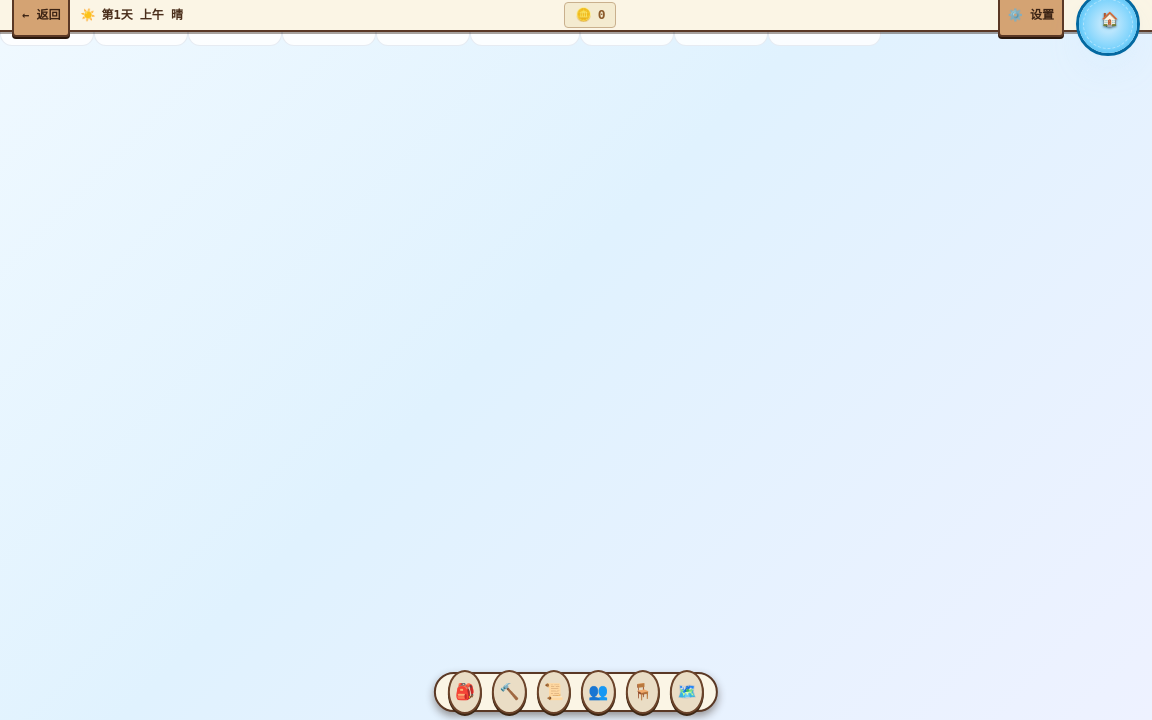
Test case: 2b · CabinHud 真实数据对接与流通测试 (判据 U1, U2, U2b, U3, U4, U6) › U6: 错误态明确展示在弹窗中，不许静默空白冒充正常
Click the button with test id "hud-btn-backpack": (465, 692) [448,670,482,714]
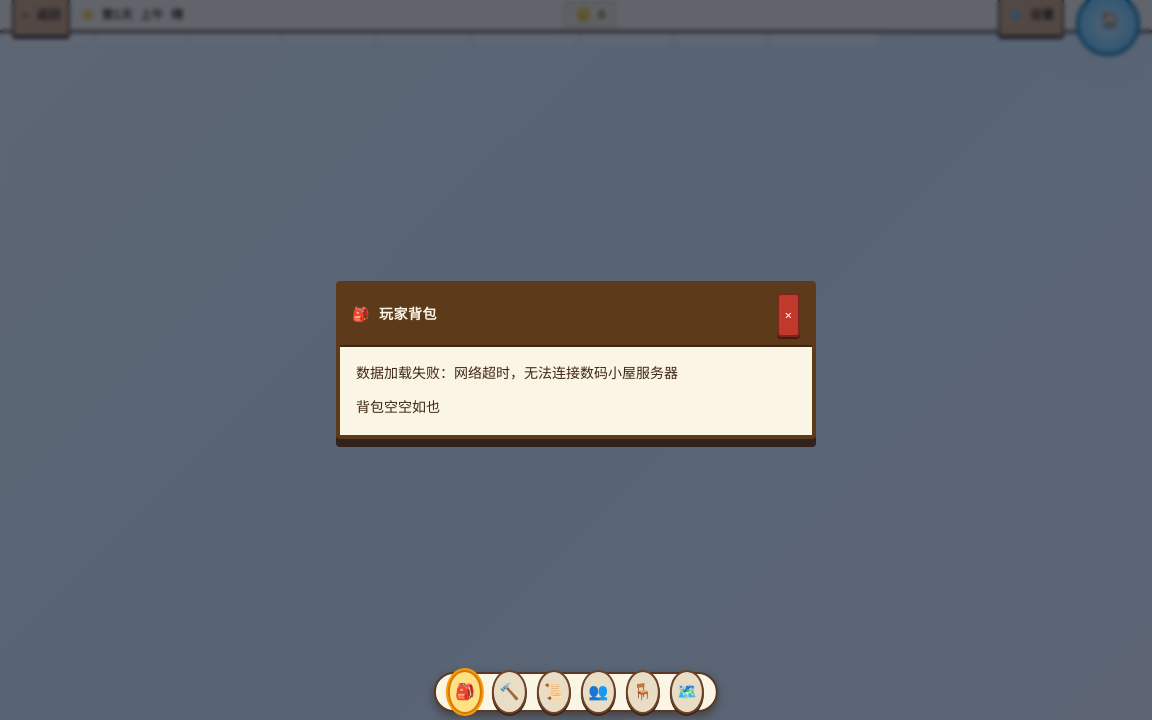
Now the message "数据加载失败：网络超时，无法连接数码小屋服务器" is shown, box [356,365,678,381]
Now the message shows "网络超时，无法连接数码小屋服务器", box [454,365,678,381]
